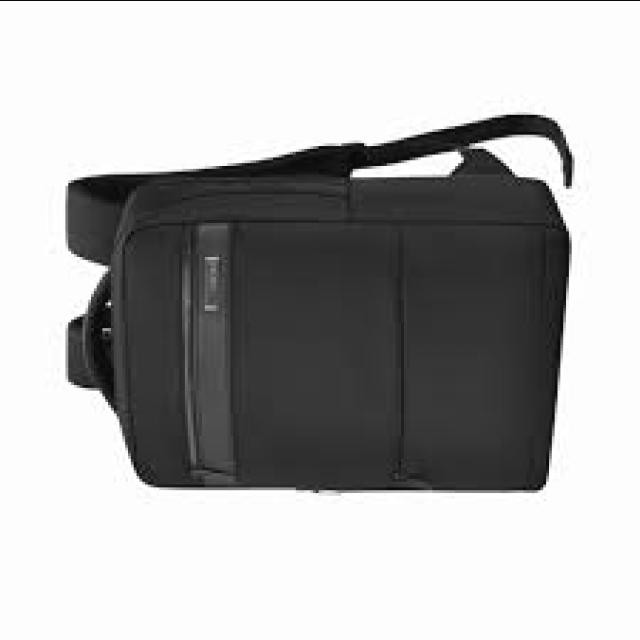backpack: (64, 115, 573, 496)
